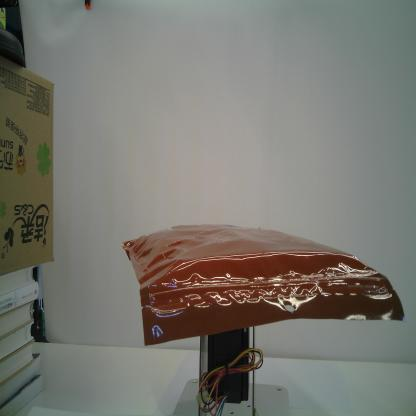Dried Food: (120, 220, 406, 348)
